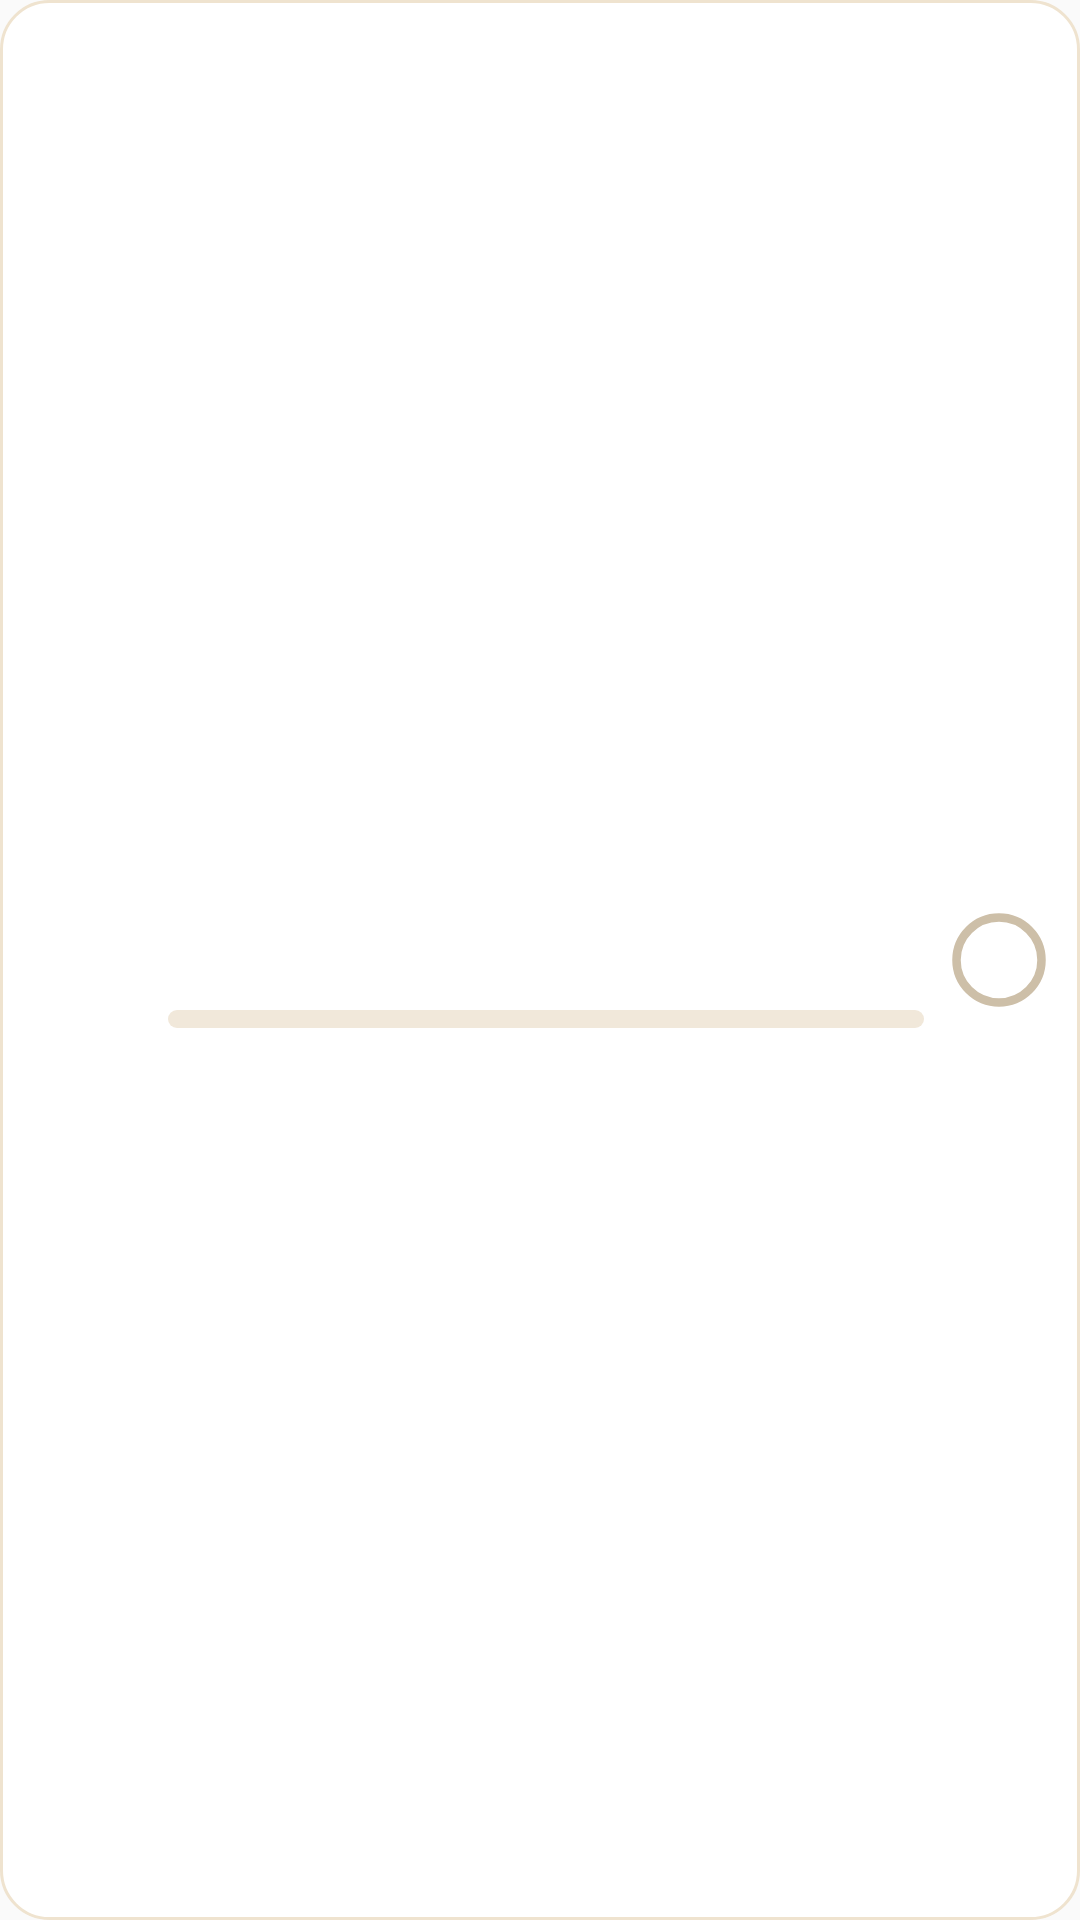

Icons on this 1080*1920 Android screen, each with the point to tap as (x,y):
widget check off: (999,960)
